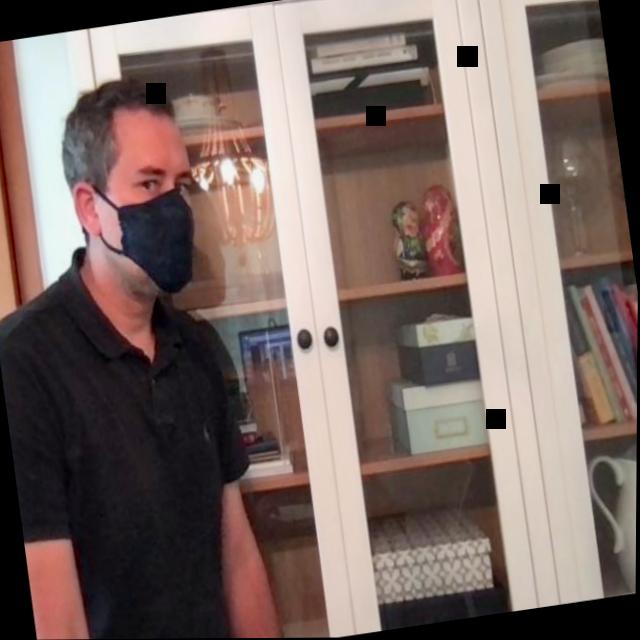Mask: (51, 71, 207, 317)
